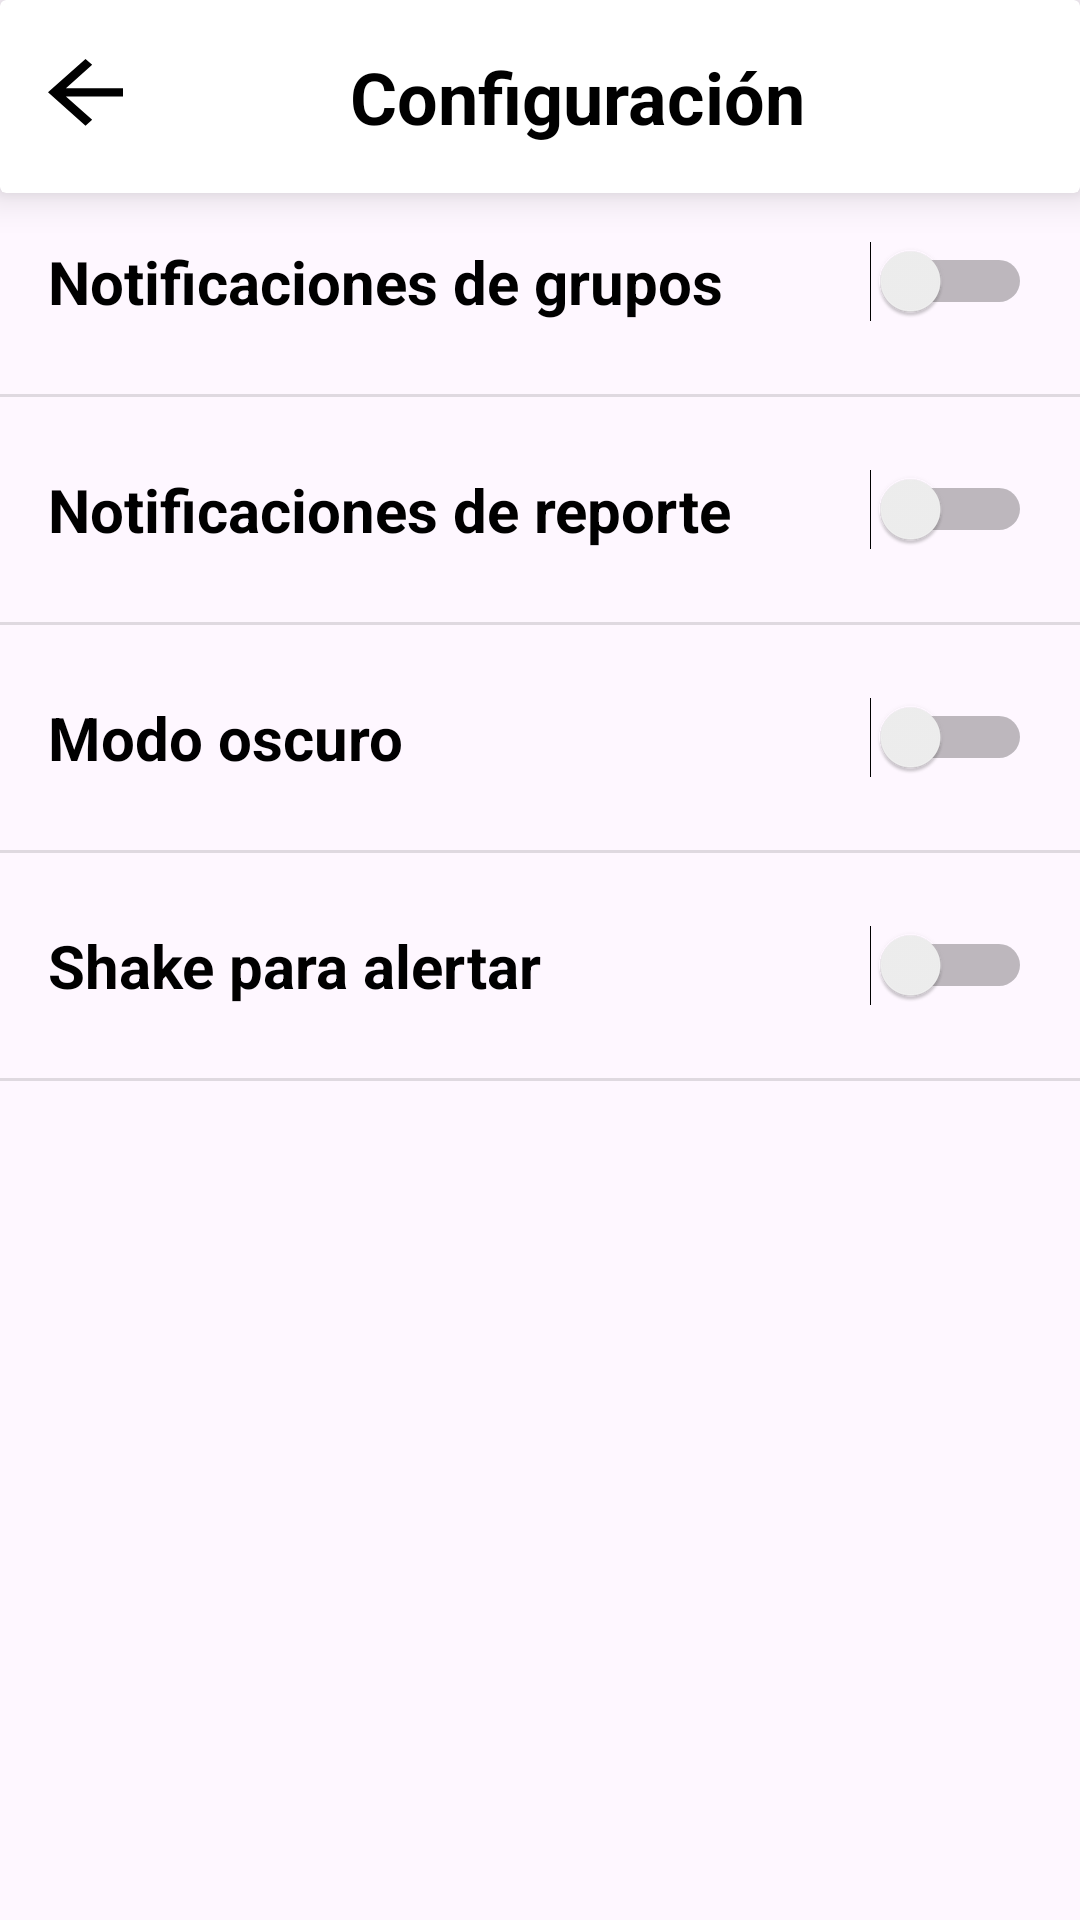

Icons on this 1080*1920 Android screen, each with the point to tap as (x=x, y=y):
Retroceder: (x=85, y=92)
